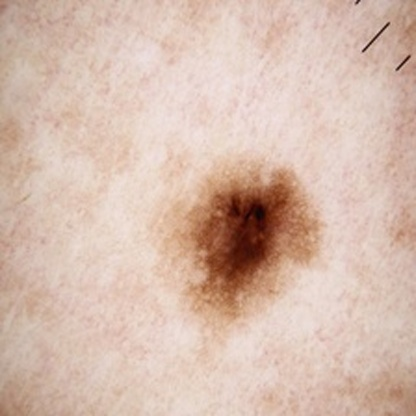benign: (183, 163, 308, 306)
